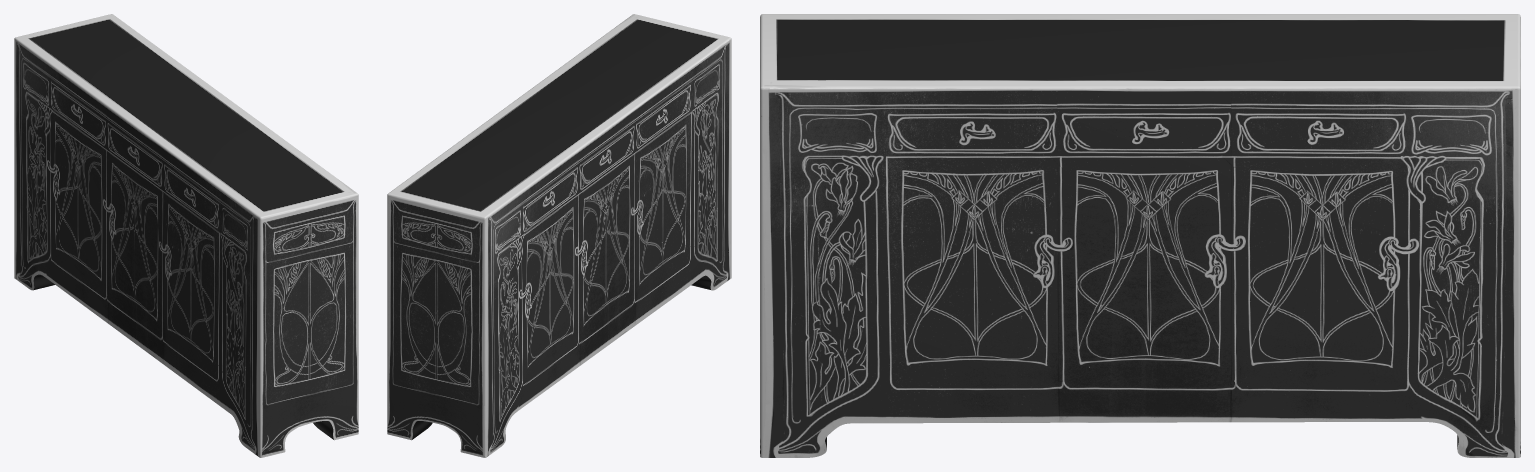
File: commode-2.fbx
3 views of the same model, side by side, from view 1: azimuth 30°, elevation 25°; view 2: azimuth 150°, elevation 25°; view 3: azimuth 270°, elevation 25° (orthographic). The views are drawn at different scales.
Visible parts, largest first — view 1: commode-2; view 2: commode-2; view 3: commode-2.
Boxes of the visible parts, <box> form: commode-2: <box>14,14,358,457</box>; commode-2: <box>387,14,731,457</box>; commode-2: <box>760,14,1520,457</box>.
Bounding box in the file's own units: 21.4 × 49.71 × 92.49.
Materials: 1 (1 with a texture image).
